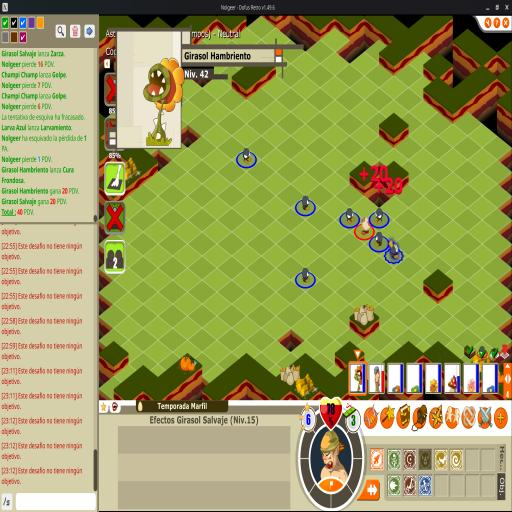Enemigos: (389, 237, 400, 259), (374, 207, 385, 225), (242, 146, 252, 164), (302, 194, 312, 212), (346, 207, 356, 225), (374, 230, 384, 248), (302, 266, 312, 283)
Personaje: (360, 214, 371, 236)
